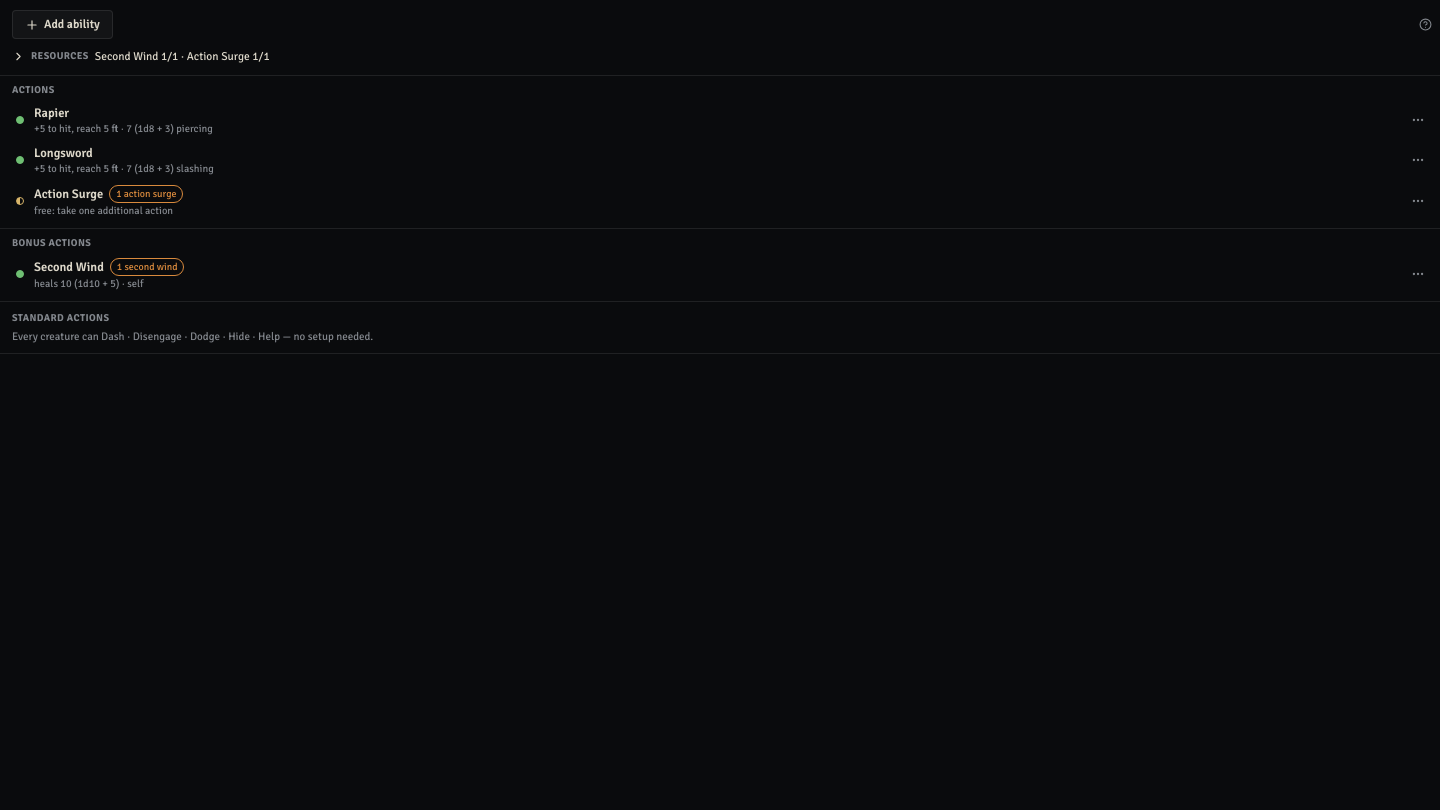
Test: ActionsTab › the Weapons / Spells filters narrow the library
Click the button "Add ability" at (62, 24), box x1=12 y1=10 x2=113 y2=39
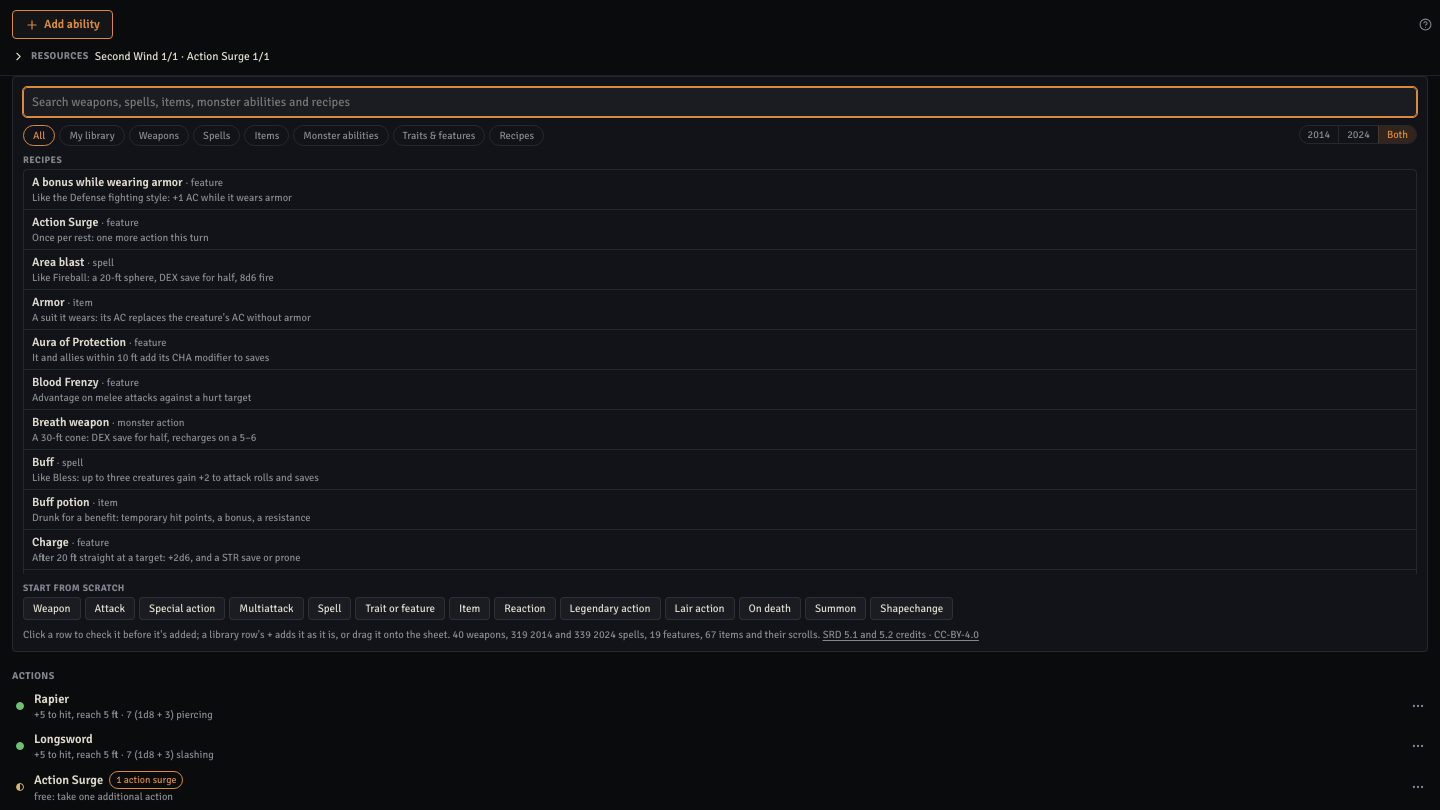
Click the button "Spells" at (217, 136), box x1=193 y1=125 x2=240 y2=146
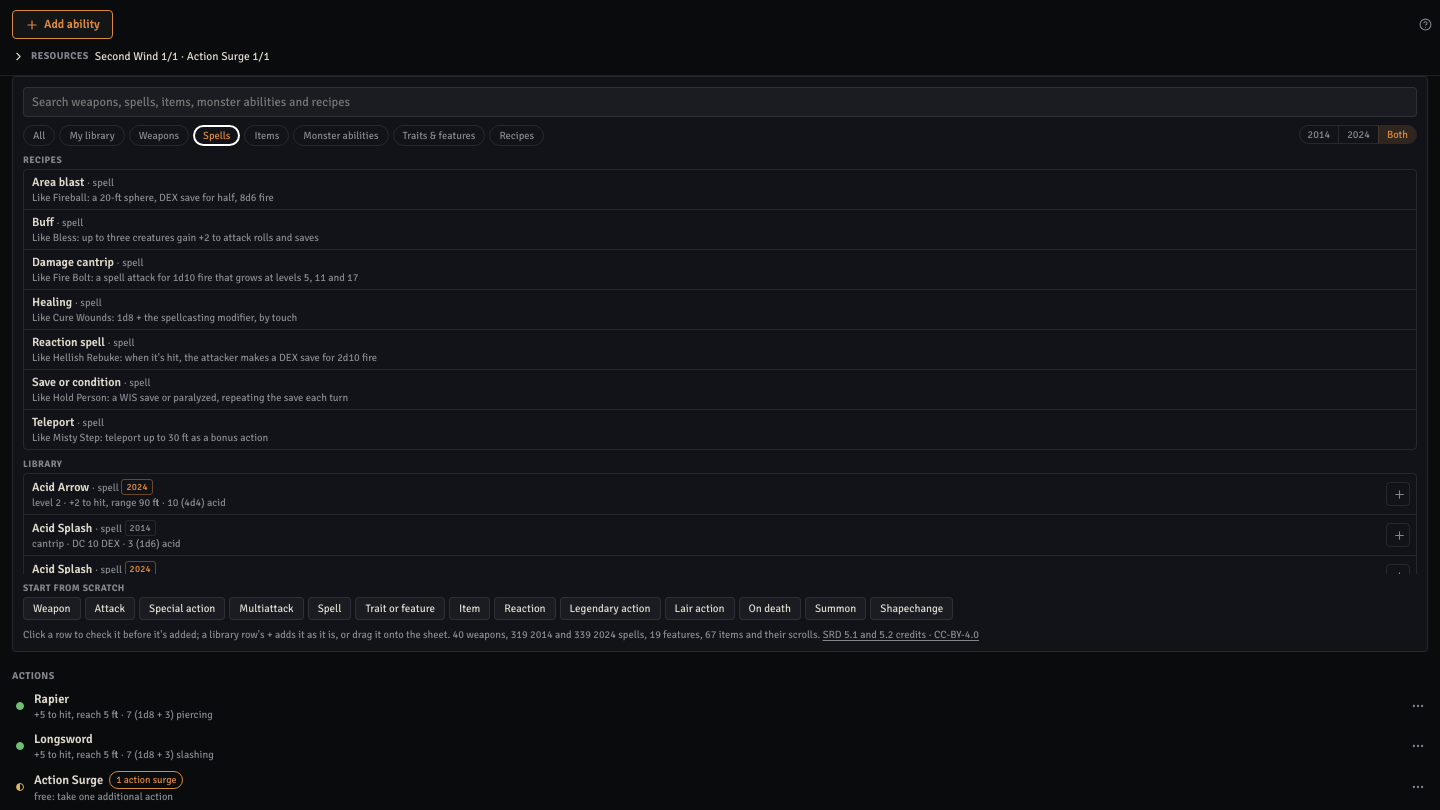
Type "dagger" into the search field named "Search abilities" at (720, 102), box x1=23 y1=87 x2=1417 y2=117
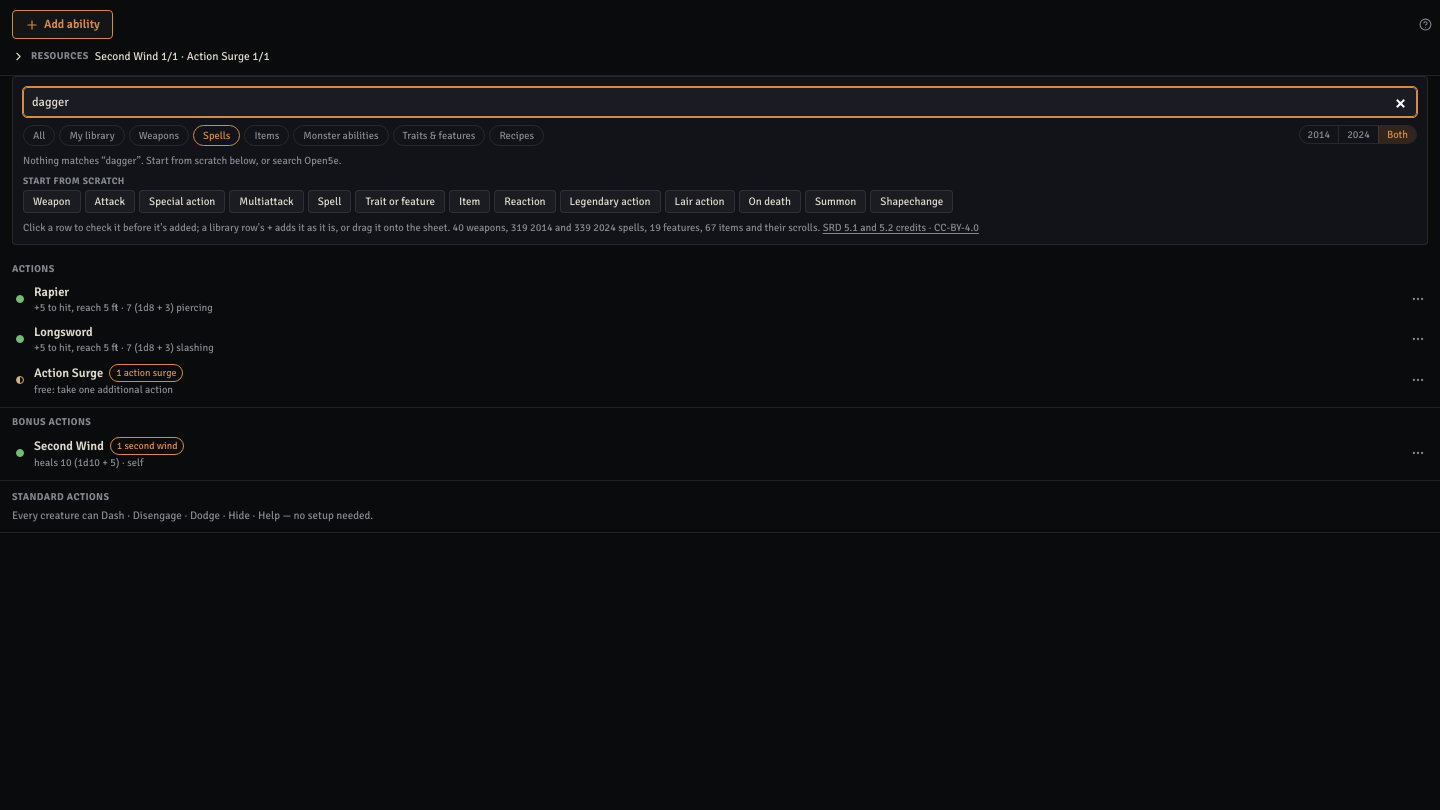
Click the button "Weapons" at (159, 136), box x1=129 y1=125 x2=189 y2=146
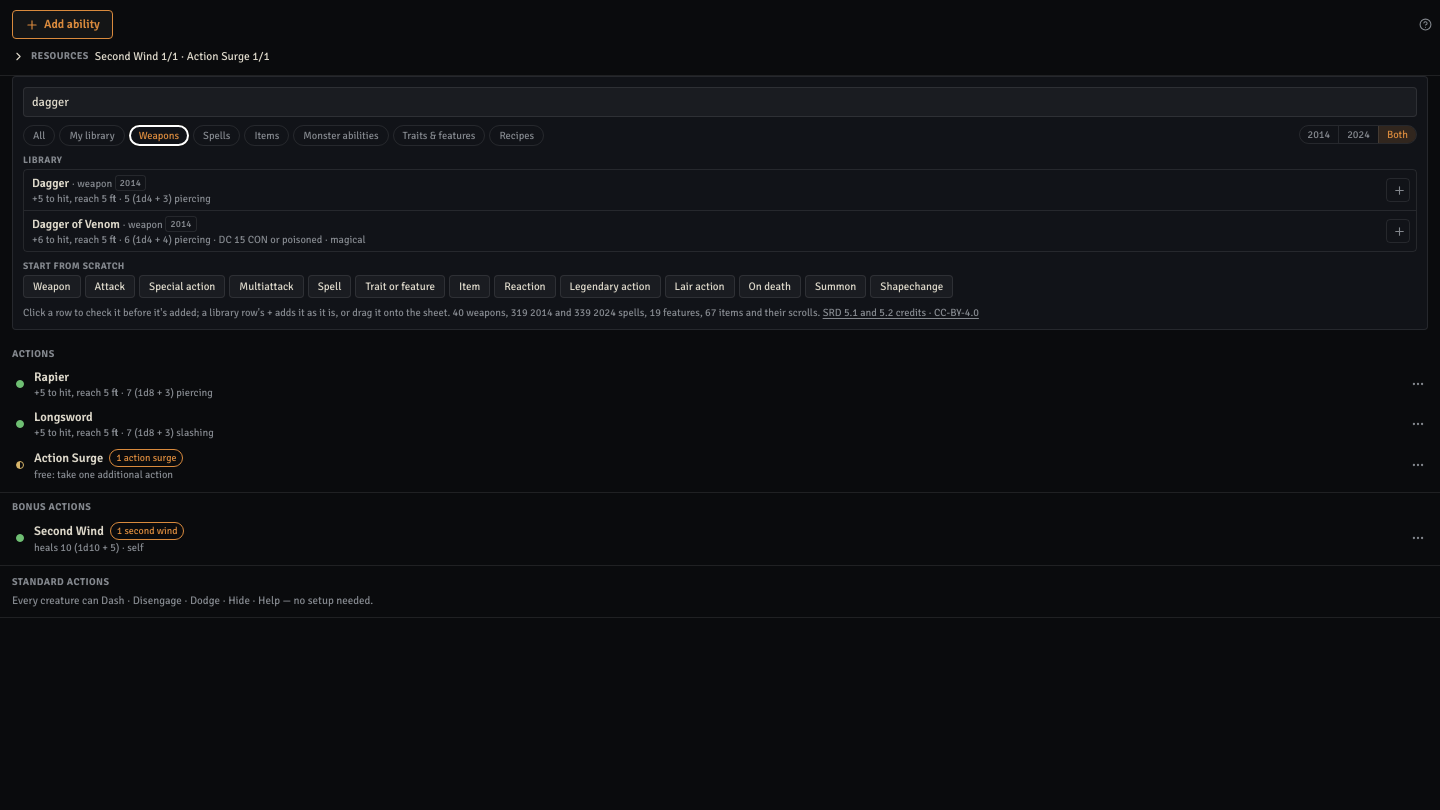
Expected: the button "Dagger ·" is shown, x1=24 y1=170 x2=1380 y2=210
